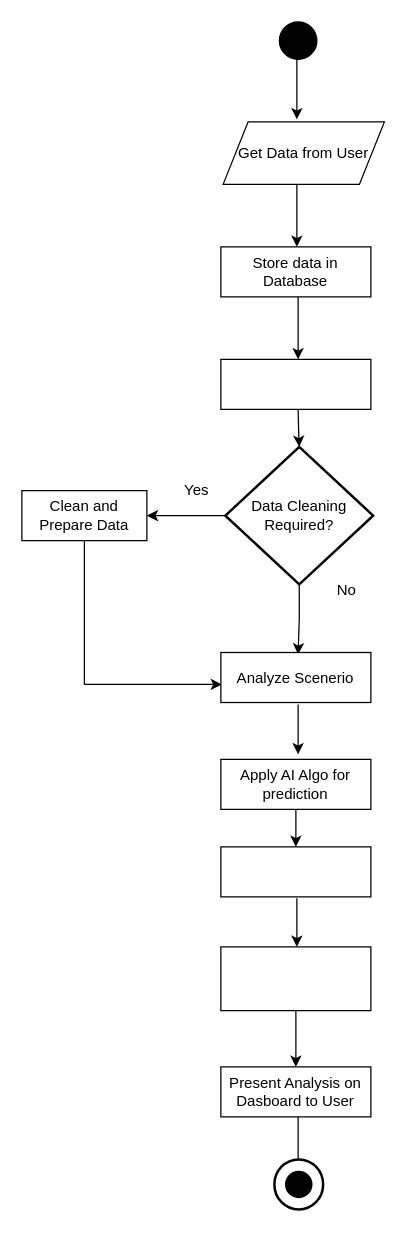
This 406x1233 diagram has some shape labels left out. Each missing label, with the centre of its shape:
"Analyze results of prediction" goes at [295,871].
"Generate personalized Recommendations" goes at [295,978].
"Load Data into System" goes at [295,383].
